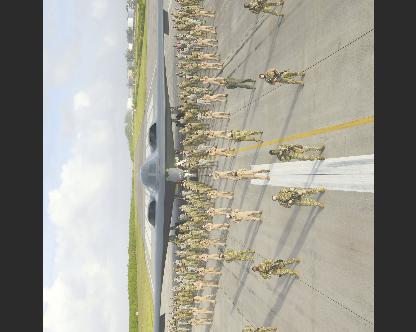B1: (138, 0, 199, 331)
